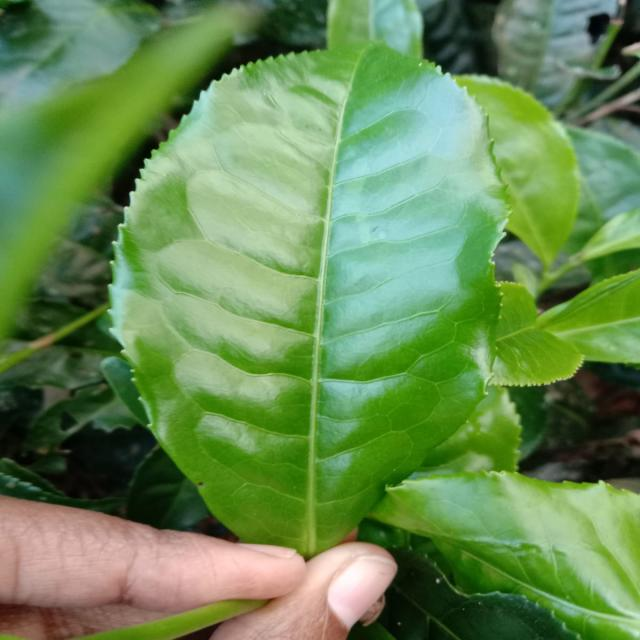Category C(4-7 days): (88, 17, 544, 556)
